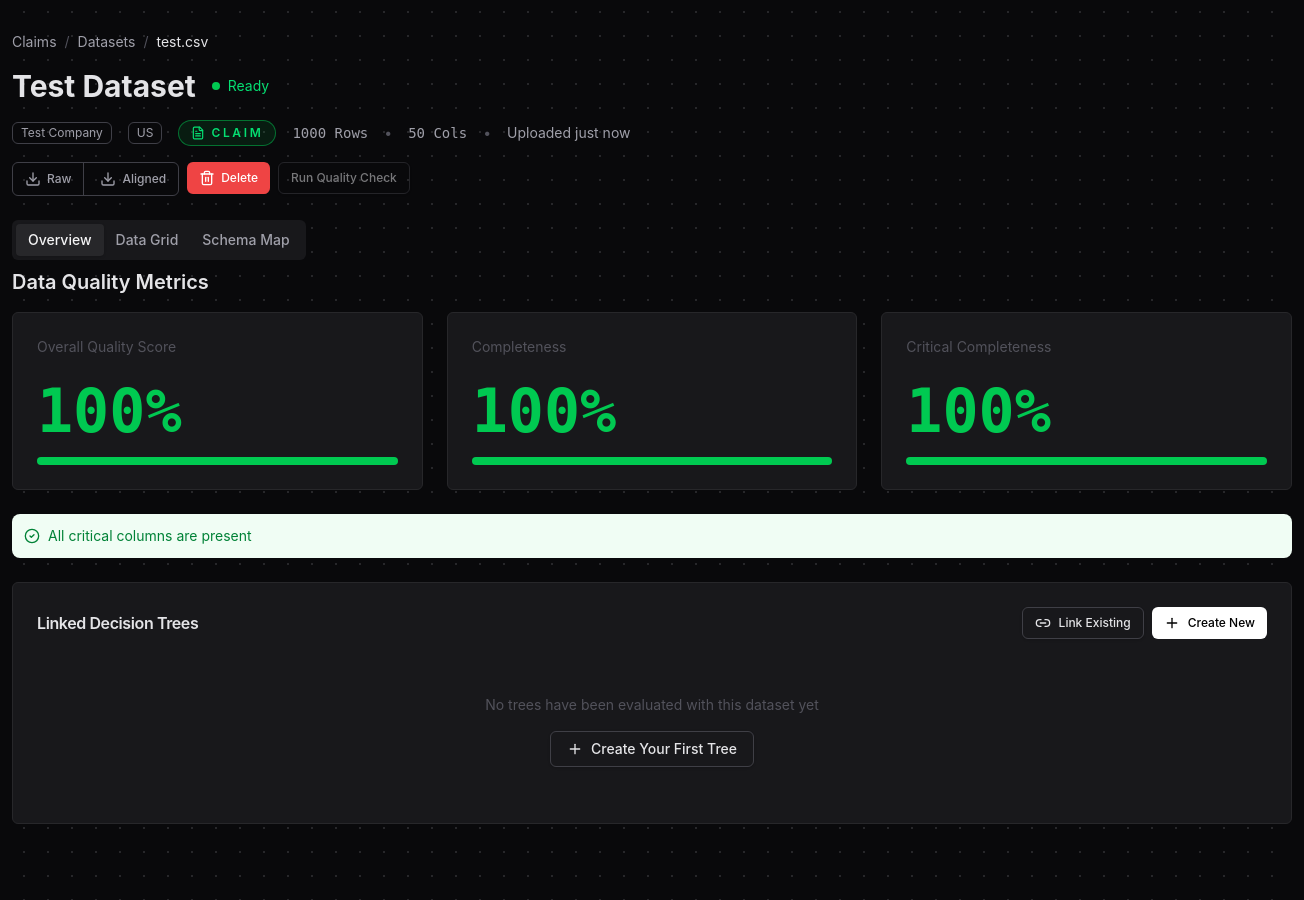
Test: DatasetDetail - Write Gating Integration Tests › renders fully interactive view for admin
Check: the button "Delete" is shown, box [187, 162, 270, 194]
Check: the button "Link Existing" is shown, box [1022, 607, 1144, 639]
Switch to Schema Map tab
Step 1. Click the button "Schema Map" → (246,240), box [190, 224, 302, 256]
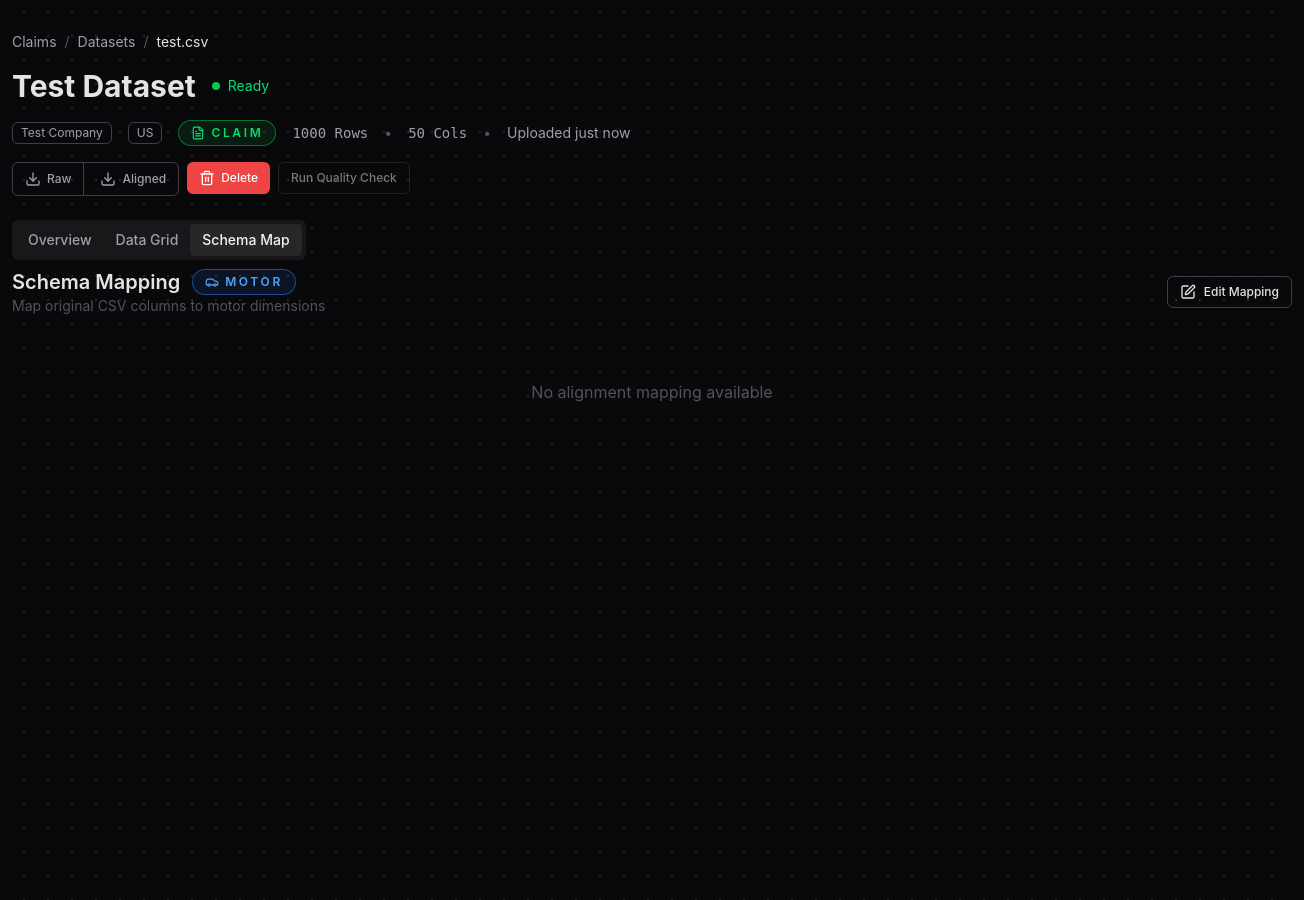
Check: the button "Edit Mapping" is enabled, box [1167, 276, 1292, 308]
